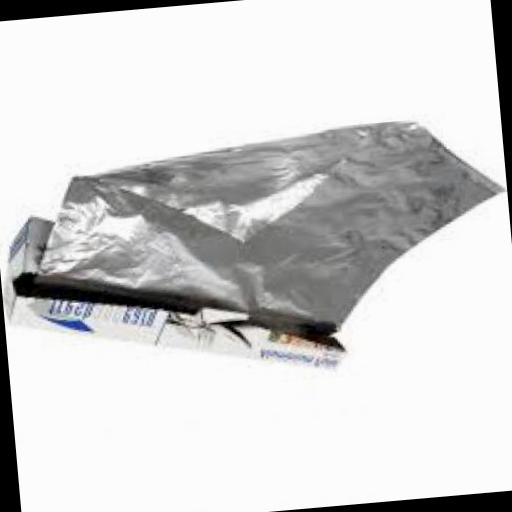metal: (23, 117, 512, 360)
